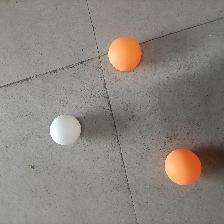WhiteBall: (47, 113, 81, 146)
YellowBall: (163, 147, 201, 186), (106, 36, 142, 71)
